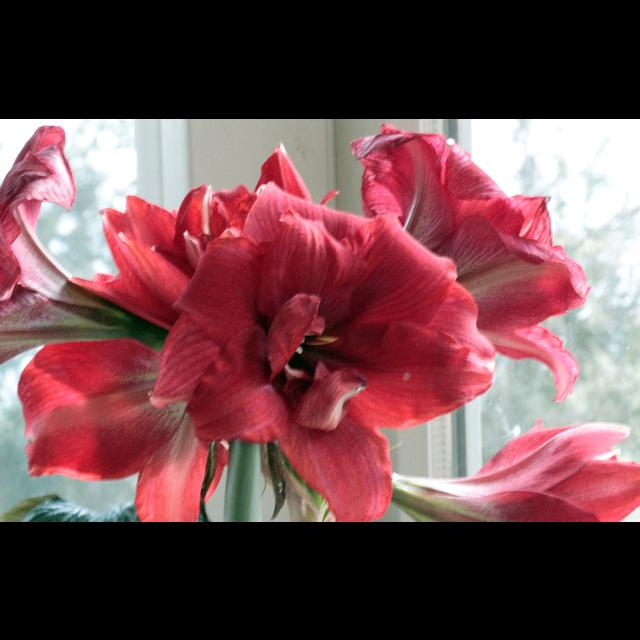Flower: (18, 140, 580, 492)
